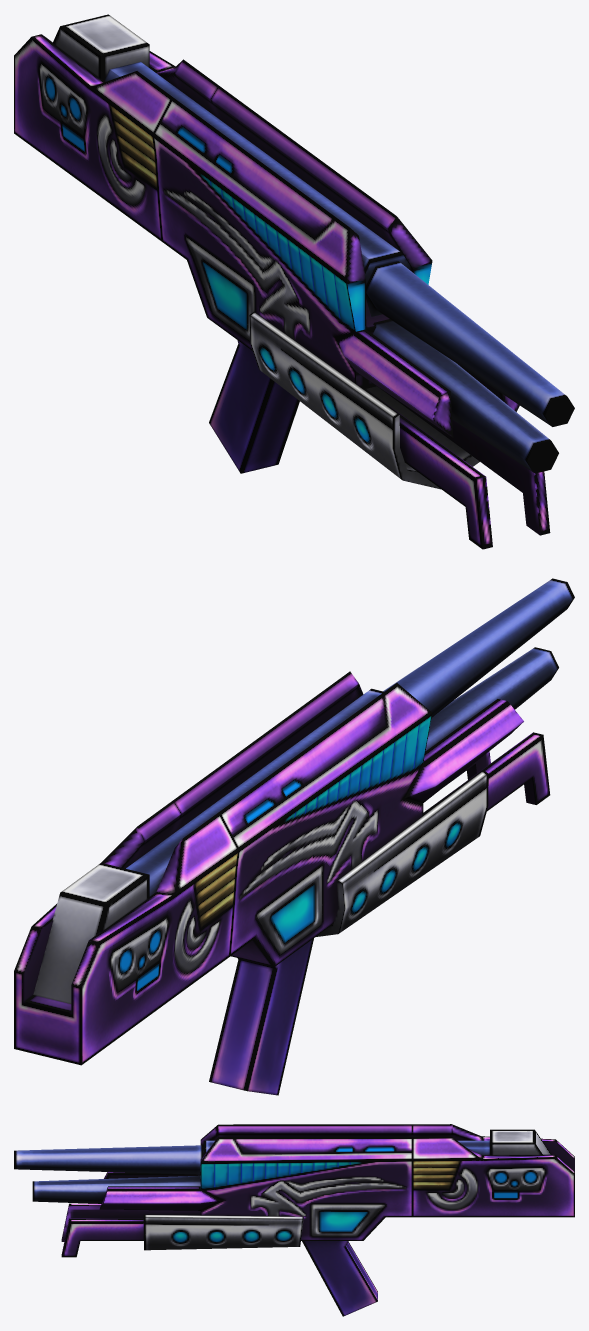
The model's file is weapon_auto_05.FBX.
3 views of the same model, one above another, from view 1: azimuth 30°, elevation 25°; view 2: azimuth 150°, elevation 25°; view 3: azimuth 270°, elevation 25° (orthographic). The views are drawn at different scales.
Visible parts, largest first — view 1: weapon_auto_05; view 2: weapon_auto_05; view 3: weapon_auto_05.
Part boxes in pixels (x1=…): weapon_auto_05: x1=14, y1=14, x2=574, y2=549; weapon_auto_05: x1=14, y1=578, x2=574, y2=1095; weapon_auto_05: x1=14, y1=1124, x2=574, y2=1316.
Bounding box in the file's own units: 19.18 × 64.58 × 181.
